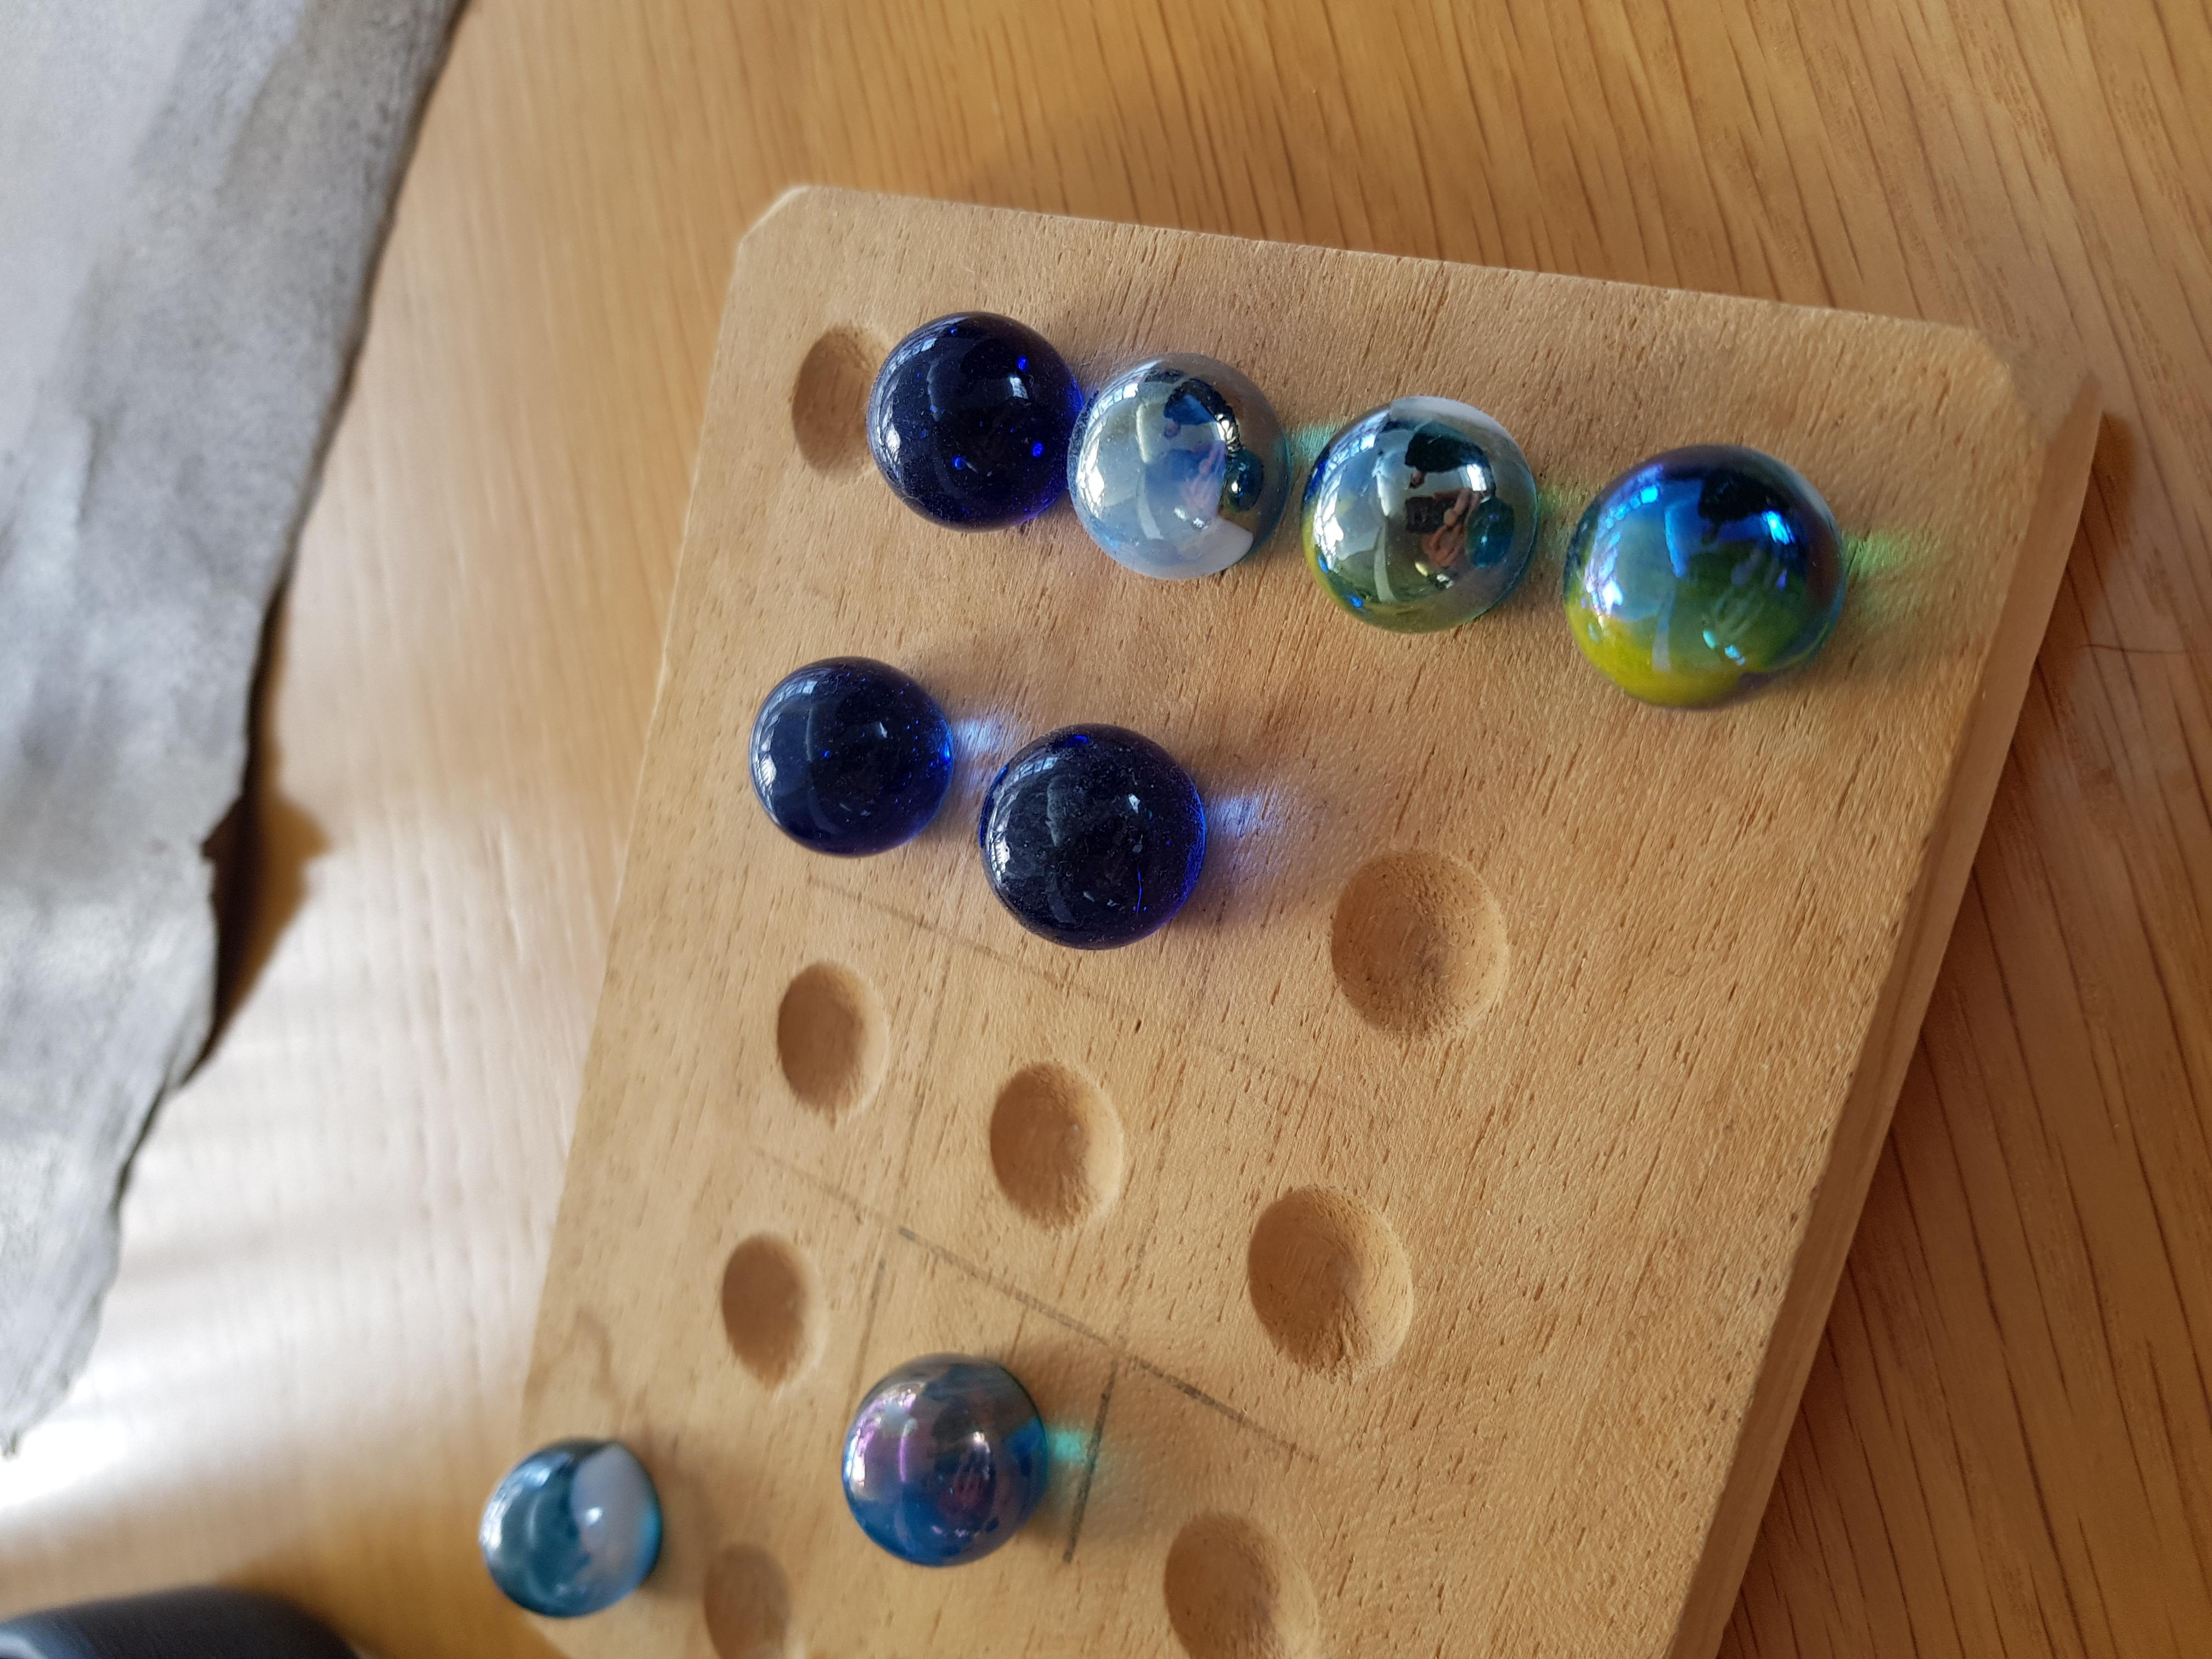Sphere: (1559, 439, 1843, 709), (1299, 397, 1545, 631), (968, 721, 1207, 951), (1066, 354, 1287, 584), (862, 312, 1087, 537), (836, 1356, 1047, 1568), (744, 655, 953, 864), (479, 1445, 667, 1617)
